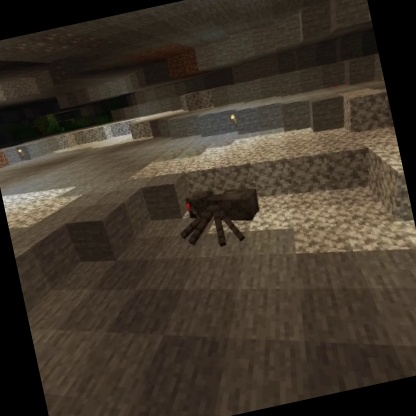spider: (168, 175, 270, 258)
